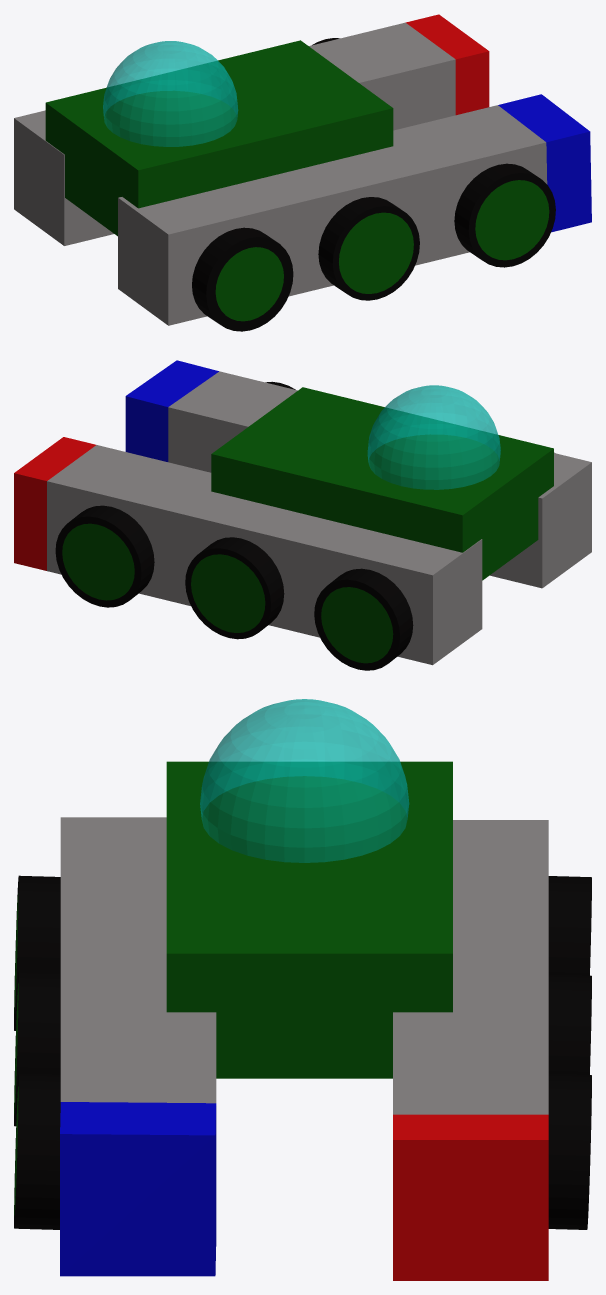
File: magnocar.obj
3 views of the same model, one above another, from view 1: azimuth 30°, elevation 25°; view 2: azimuth 150°, elevation 25°; view 3: azimuth 270°, elevation 25° (orthographic). The views are drawn at different scales.
Parts seen in each view (by area): view 1: Cube_Cube.004, Cube.002_Cube.006, Cube.001_Cube.005, Sphere, Cylinder.006_Cylinder.010, Cylinder.004_Cylinder.008, Cylinder.005_Cylinder.009; view 2: Cube.001_Cube.005, Cube.002_Cube.006, Cube_Cube.004, Sphere, Cylinder.003, Cylinder.002_Cylinder.007, Cylinder.001_Cylinder.006; view 3: Cube.002_Cube.006, Cube_Cube.004, Cube.001_Cube.005, Sphere, Cylinder.004_Cylinder.008, Cylinder.003, Cylinder.005_Cylinder.009, Cylinder.006_Cylinder.010, Cylinder.001_Cylinder.006, Cylinder.002_Cylinder.007.
Part boxes in pixels (x1,y1,x2,y2): Cube_Cube.004: [118, 94, 591, 325]; Cube.002_Cube.006: [45, 40, 393, 236]; Cube.001_Cube.005: [14, 14, 489, 245]; Sphere: [103, 41, 238, 146]; Cylinder.006_Cylinder.010: [192, 227, 293, 331]; Cylinder.004_Cylinder.008: [454, 163, 555, 267]; Cylinder.005_Cylinder.009: [318, 197, 419, 300]; Cube.001_Cube.005: [14, 437, 482, 665]; Cube.002_Cube.006: [211, 387, 553, 580]; Cube_Cube.004: [125, 360, 591, 588]; Sphere: [367, 385, 500, 489]; Cylinder.003: [55, 505, 154, 607]; Cylinder.002_Cylinder.007: [314, 568, 413, 670]; Cylinder.001_Cylinder.006: [185, 537, 284, 639]; Cube.002_Cube.006: [166, 761, 452, 1078]; Cube_Cube.004: [60, 817, 216, 1276]; Cube.001_Cube.005: [393, 820, 548, 1280]; Sphere: [200, 699, 409, 862]; Cylinder.004_Cylinder.008: [14, 1073, 60, 1229]; Cylinder.003: [548, 1073, 591, 1229]; Cylinder.005_Cylinder.009: [14, 971, 60, 1126]; Cylinder.006_Cylinder.010: [14, 875, 60, 1030]; Cylinder.001_Cylinder.006: [548, 974, 591, 1074]; Cylinder.002_Cylinder.007: [548, 876, 591, 975].
Bounding box in the file's own units: 9.83 × 4.64 × 7.44.
